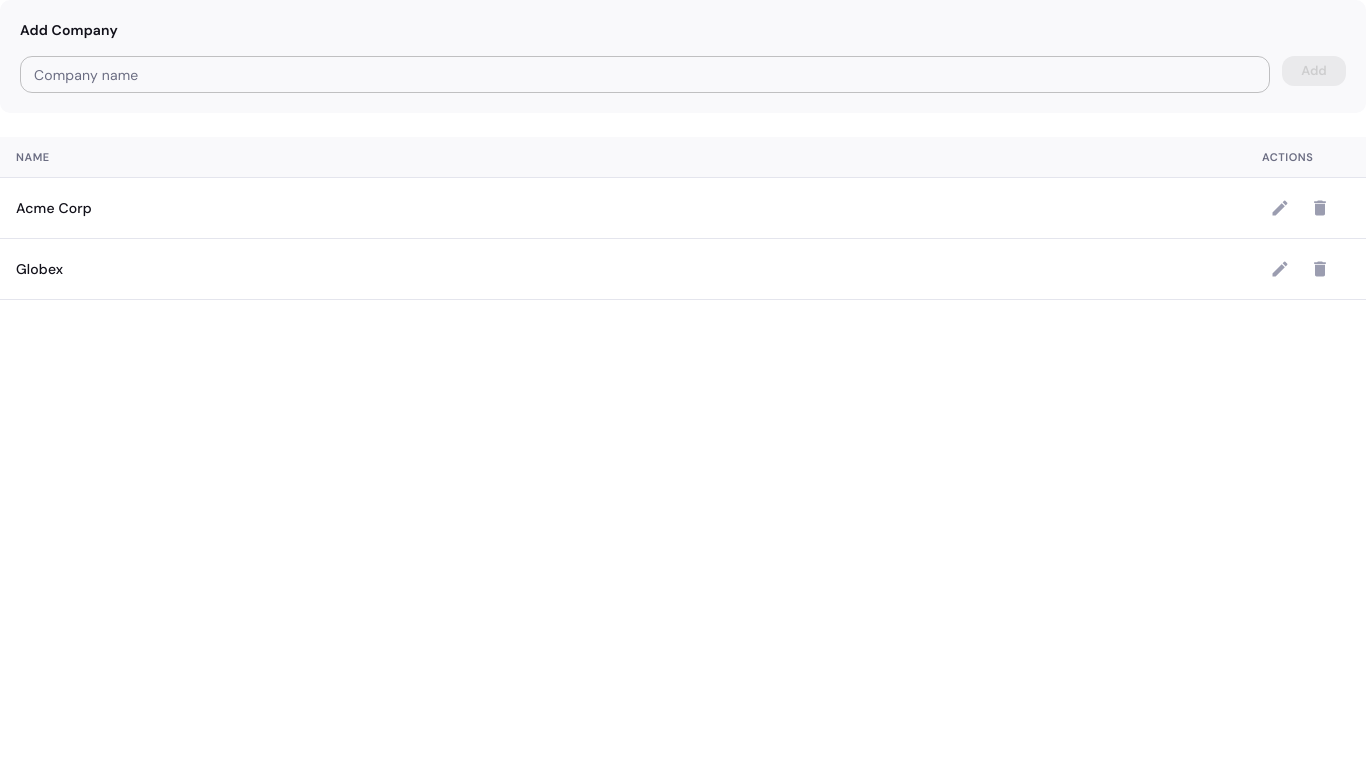
Test: CompanyManager › shows loading in delete button when pending
Click the button named "Delete Acme Corp" at (1320, 208), box [1302,190,1338,226]
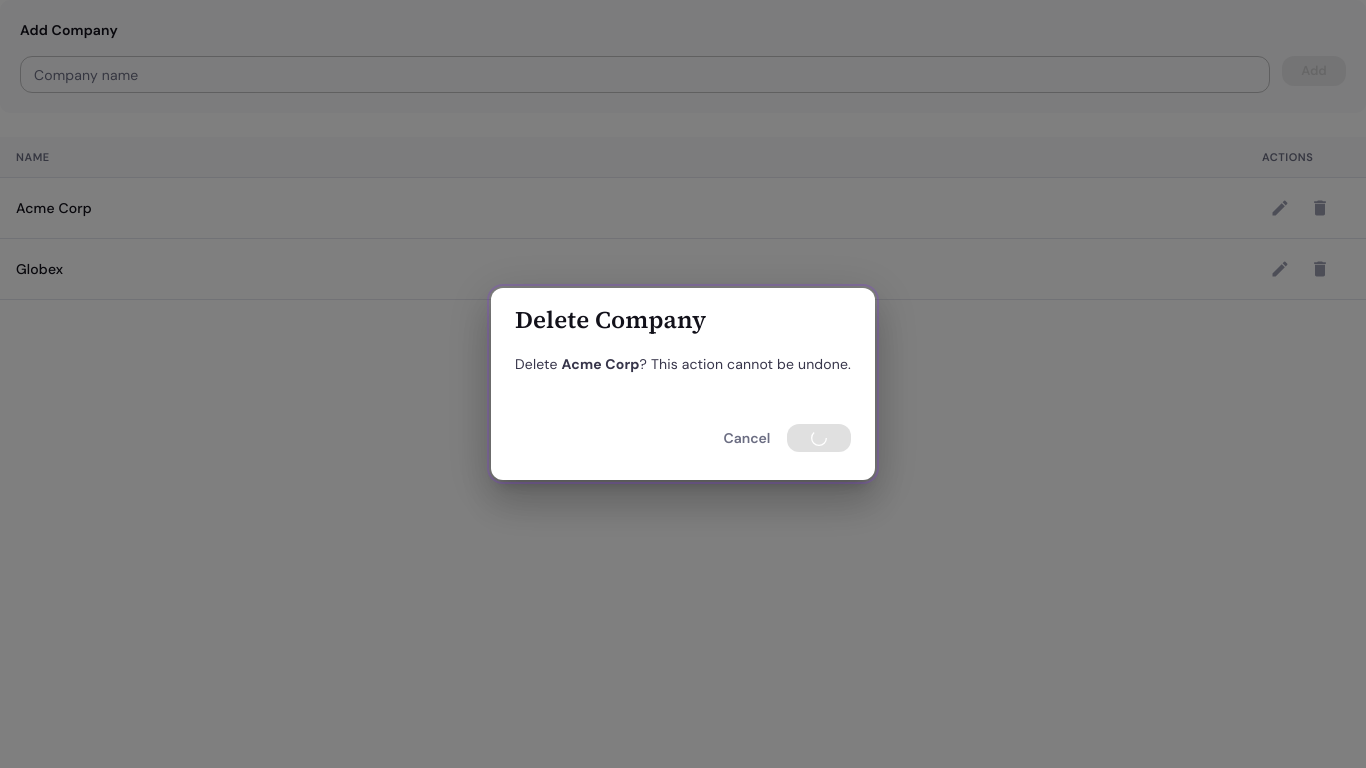
Now the 2nd button is disabled, box [787,424,851,452]
Now the progress indicator is shown, box [811,430,827,446]
